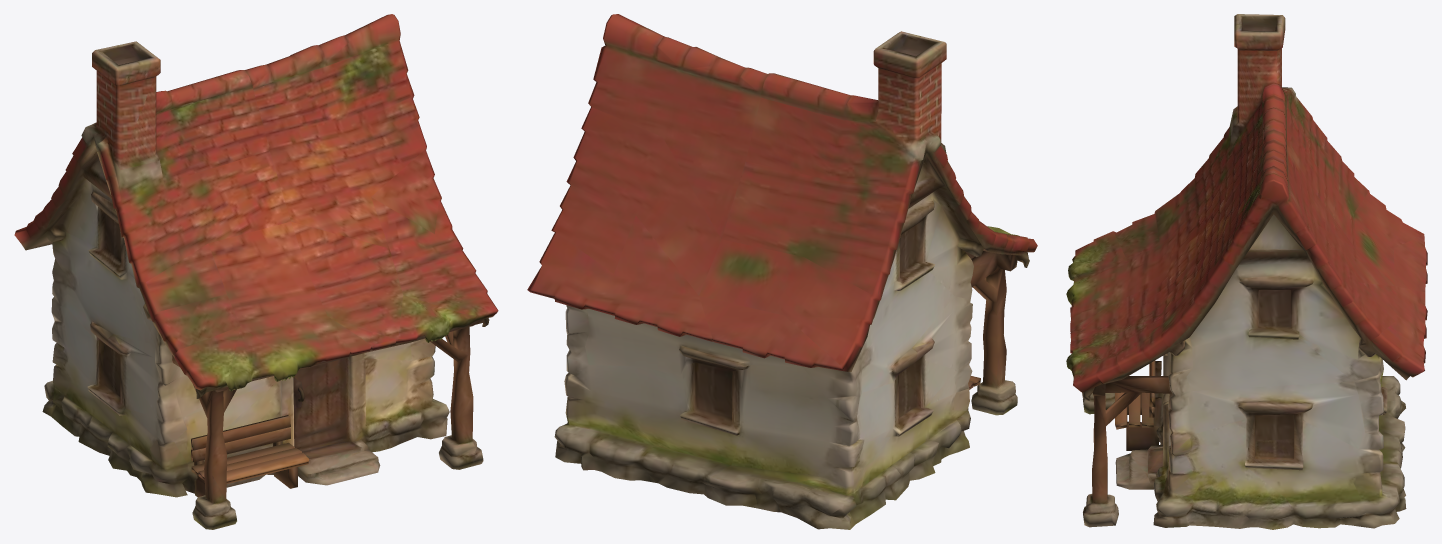
File: house_cottage_redtile.glb
3 renders of one model, left to right at view 1: azimuth 30°, elevation 25°; view 2: azimuth 150°, elevation 25°; view 3: azimuth 270°, elevation 25°, orthographic. The views are drawn at different scales.
Parts seen in each view (by area): view 1: tripo_node_ccbcacce-b94d-4697-b5ac-639d98110dd3; view 2: tripo_node_ccbcacce-b94d-4697-b5ac-639d98110dd3; view 3: tripo_node_ccbcacce-b94d-4697-b5ac-639d98110dd3.
Part boxes in pixels (bbox=[...]): tripo_node_ccbcacce-b94d-4697-b5ac-639d98110dd3: bbox=[14, 14, 498, 529]; tripo_node_ccbcacce-b94d-4697-b5ac-639d98110dd3: bbox=[527, 14, 1037, 529]; tripo_node_ccbcacce-b94d-4697-b5ac-639d98110dd3: bbox=[1066, 14, 1427, 529].
Bounding box in the file's own units: 4.73 × 6 × 5.15.
Materials: 1 (1 with a texture image).
